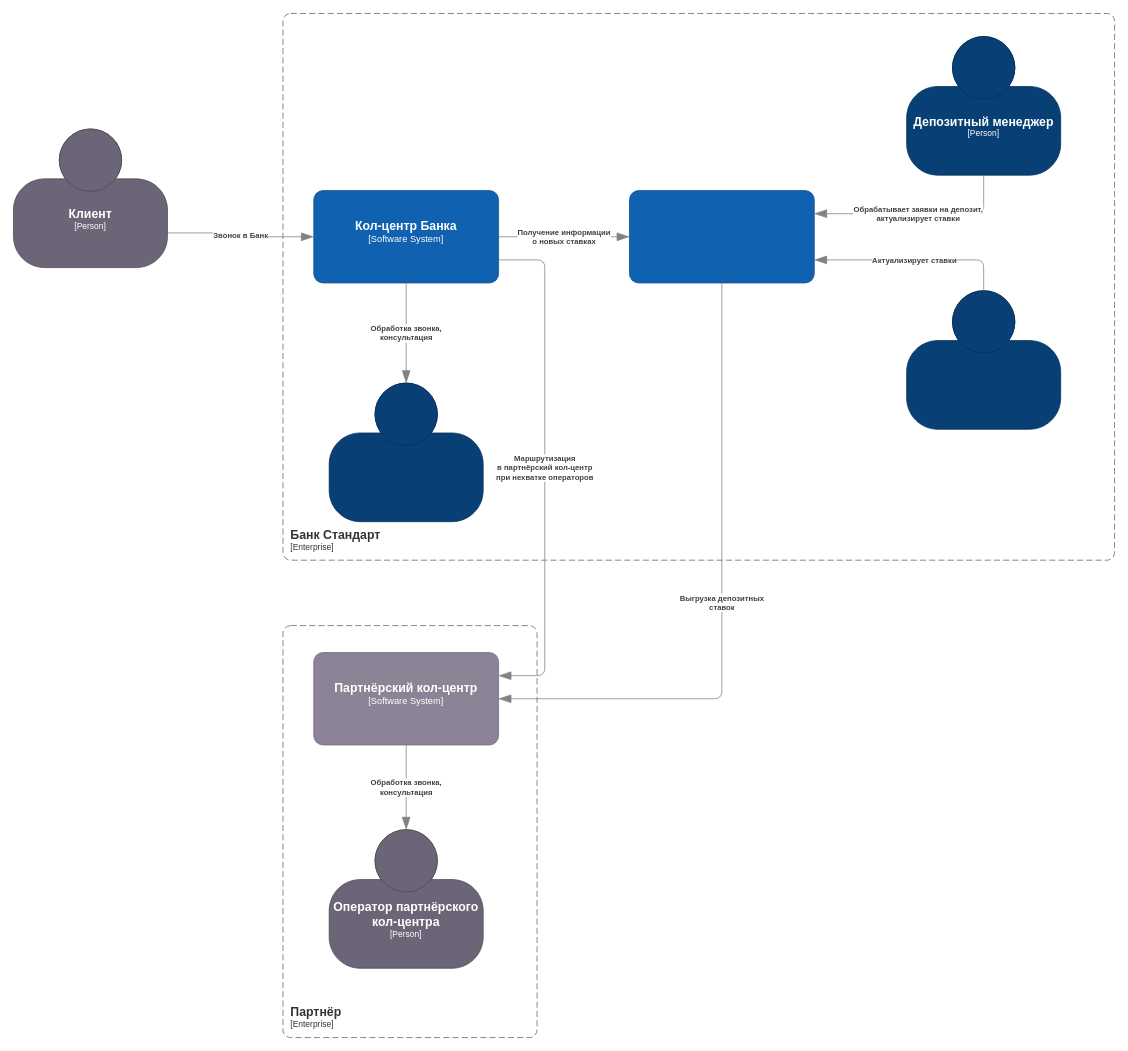
Some shapes in this 1128 by 1051 pixel diagram are drawn without their labels. Each missing label, with the centre of its shape:
"АБС [Software System]" belongs at point (721, 236).
"Кредитный менеджер [Person]" belongs at point (983, 359).
"Оператор КЦ [Person]" belongs at point (405, 452).
